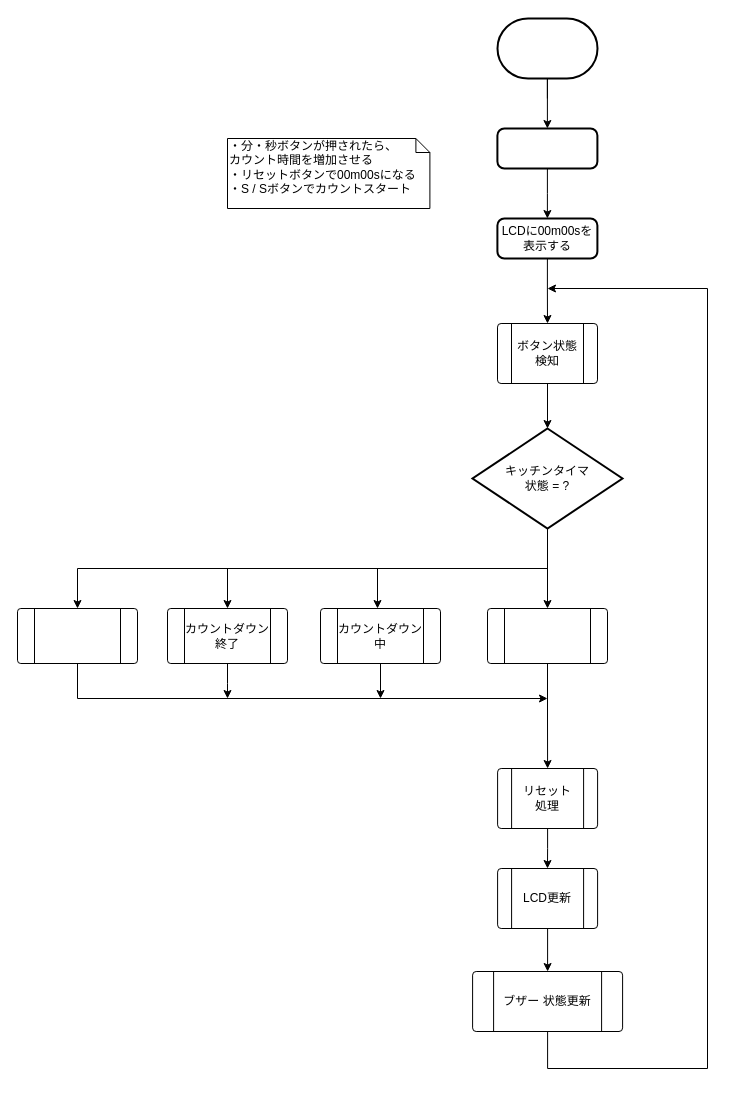
This 733x1094 diagram has some shape labels left out. Each missing label, with the centre of its shape:
"START" goes at pixel 547 48.
"カウントダウン一時停止" goes at pixel 77 636.
"カウント時間設定" goes at pixel 547 636.
"電源ON" goes at pixel 547 148.
